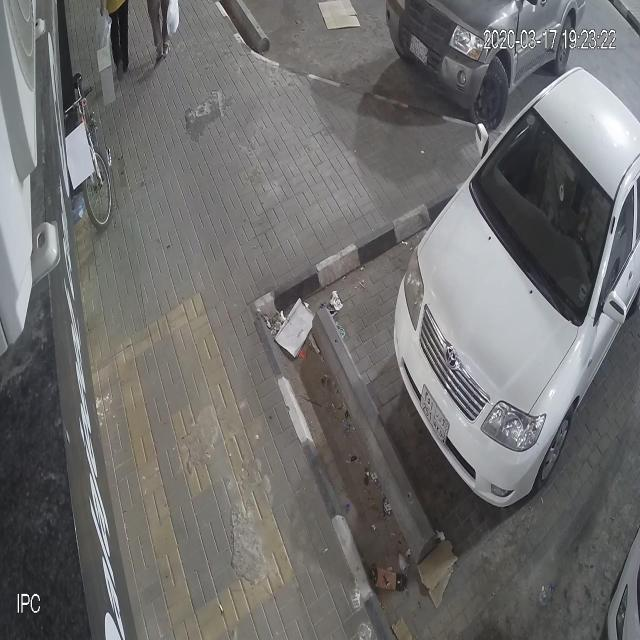license_plate: (420, 383, 450, 445), (409, 34, 428, 66)
